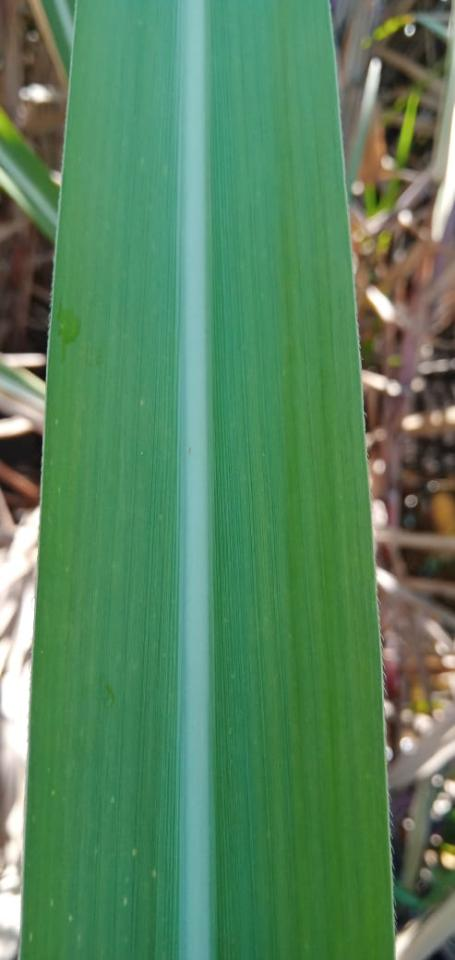Healthy: (21, 0, 392, 959)
